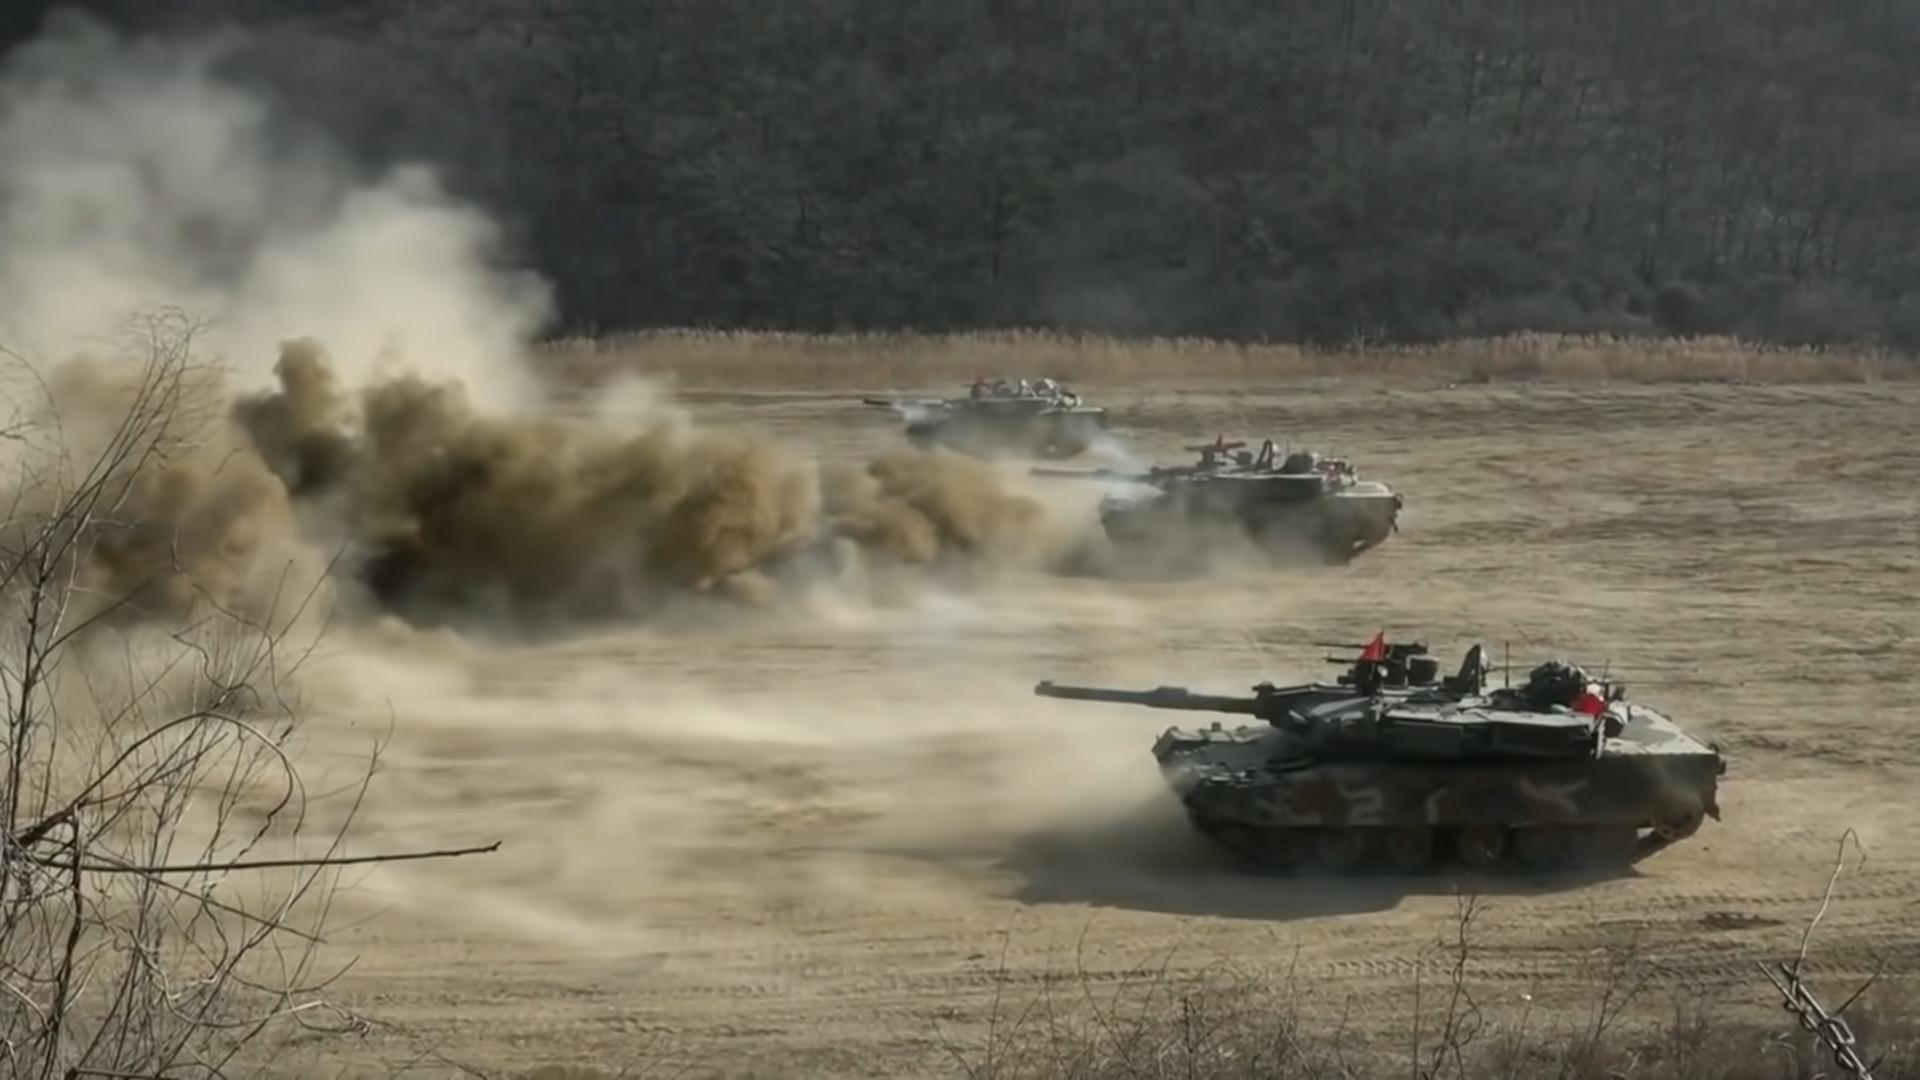tank: (1035, 641, 1729, 877), (1030, 439, 1402, 567), (864, 377, 1109, 462)
